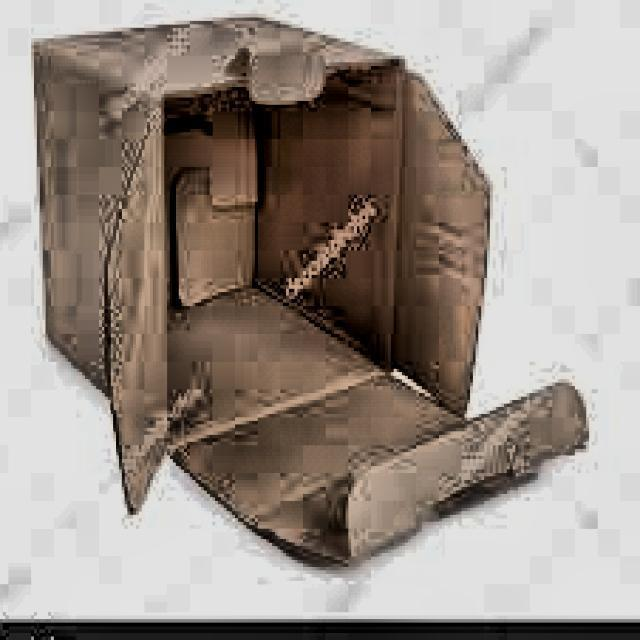cardboard: (28, 10, 589, 567)
